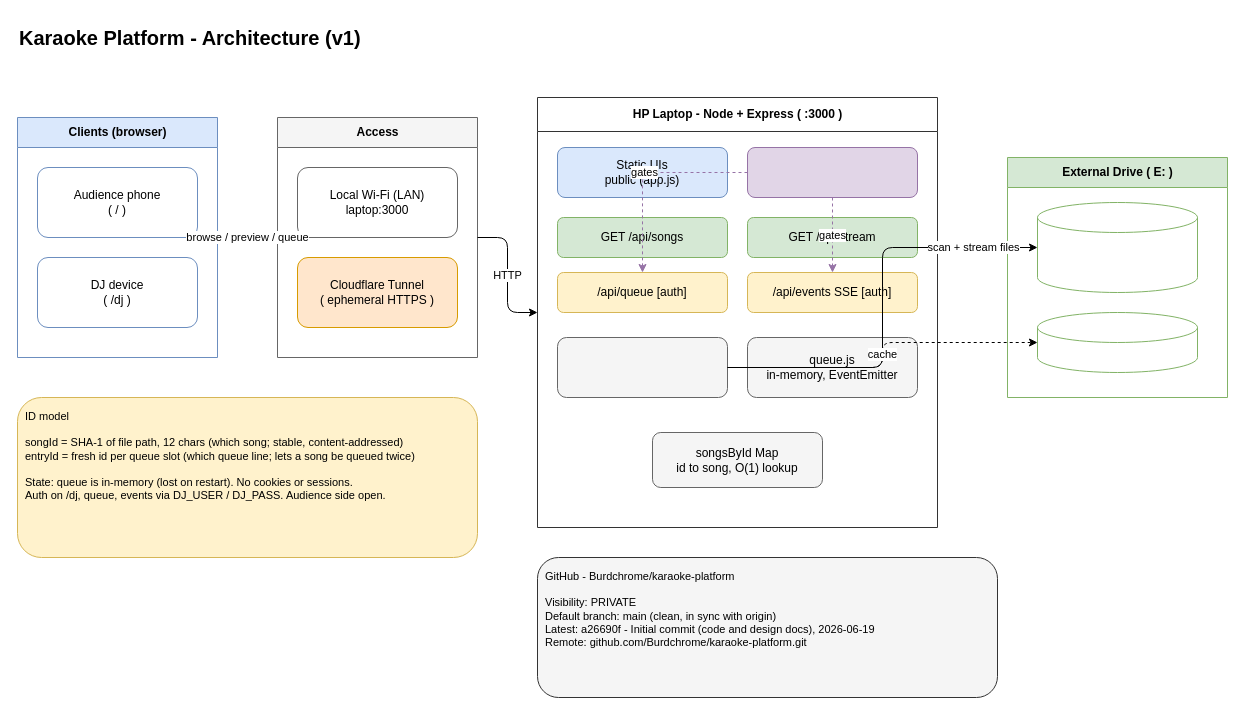
Image size: 1245x715. Some labels were removed from this diagram. The shapes that lost their labels are listed below. From the top down, each one's centre as x and y in pixels, then its label:
At (x=832, y=172): "djAuth (HTTP Basic Auth)".
At (x=1117, y=247): "E: drive karaoke 65,672 CDG and MP3 pairs".
At (x=1117, y=342): "library-cache.json".
At (x=642, y=367): "library.js in-memory song index".
